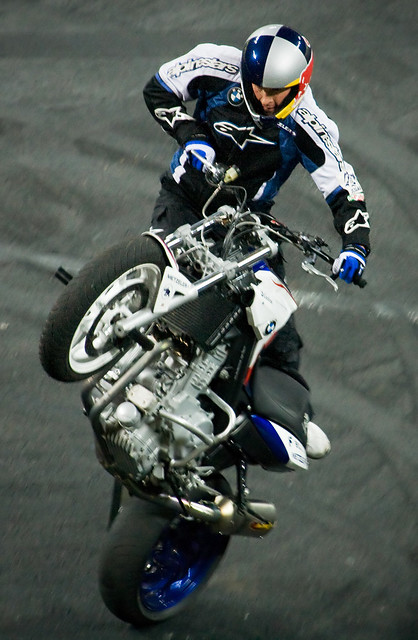helmet: (242, 22, 314, 121)
